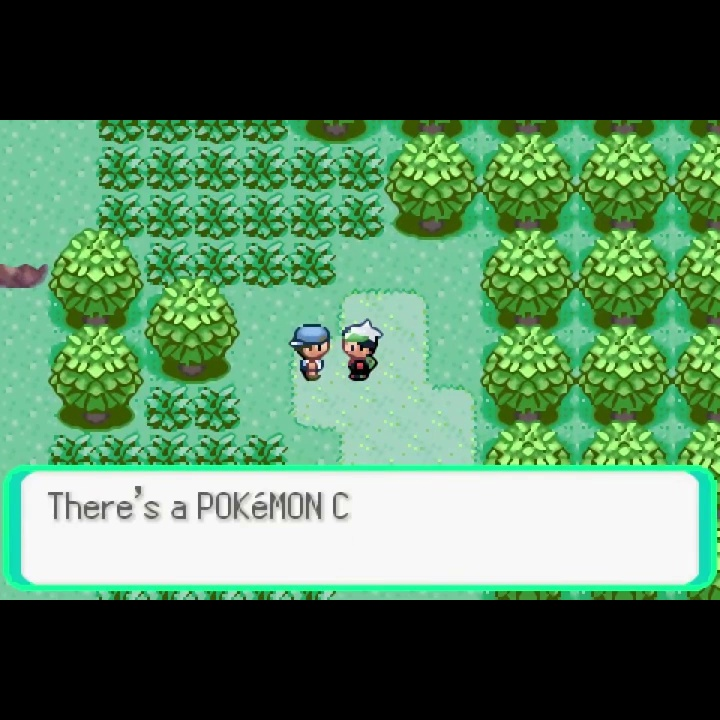grass: (288, 240, 338, 291), (144, 240, 194, 291), (288, 145, 339, 195), (144, 383, 194, 433), (95, 143, 146, 192), (192, 383, 241, 433), (96, 192, 146, 241), (288, 194, 337, 243), (192, 145, 241, 194), (240, 145, 290, 193), (337, 193, 385, 242), (338, 146, 386, 194), (193, 241, 242, 288), (193, 193, 240, 242), (145, 144, 192, 193), (241, 241, 289, 288), (241, 193, 288, 241), (145, 193, 191, 239), (239, 433, 290, 465), (191, 433, 242, 465), (47, 432, 98, 464), (142, 433, 192, 465), (97, 433, 143, 465), (192, 120, 242, 146), (96, 120, 145, 145), (242, 121, 290, 145), (145, 121, 192, 145)
npc: (338, 315, 389, 385), (284, 317, 333, 382)
wall: (48, 325, 145, 434), (387, 131, 481, 242), (144, 276, 242, 382), (576, 230, 673, 335), (481, 323, 578, 428), (480, 132, 576, 237), (577, 134, 673, 238), (48, 228, 143, 333), (481, 231, 576, 334), (576, 323, 670, 427), (671, 322, 720, 428), (671, 231, 720, 336), (675, 134, 720, 239), (480, 421, 577, 464), (578, 422, 672, 465), (290, 119, 386, 145), (576, 120, 673, 145), (479, 121, 576, 144), (387, 121, 479, 145), (672, 421, 720, 465), (675, 119, 720, 144)
